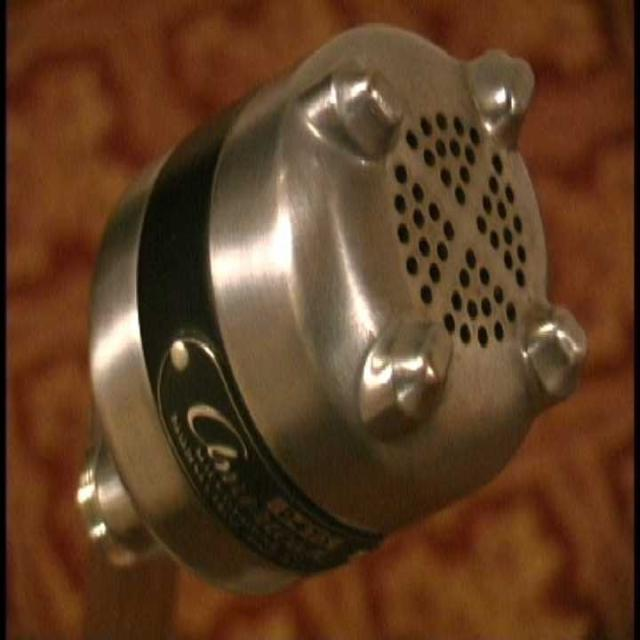microphone: (93, 27, 570, 552)
